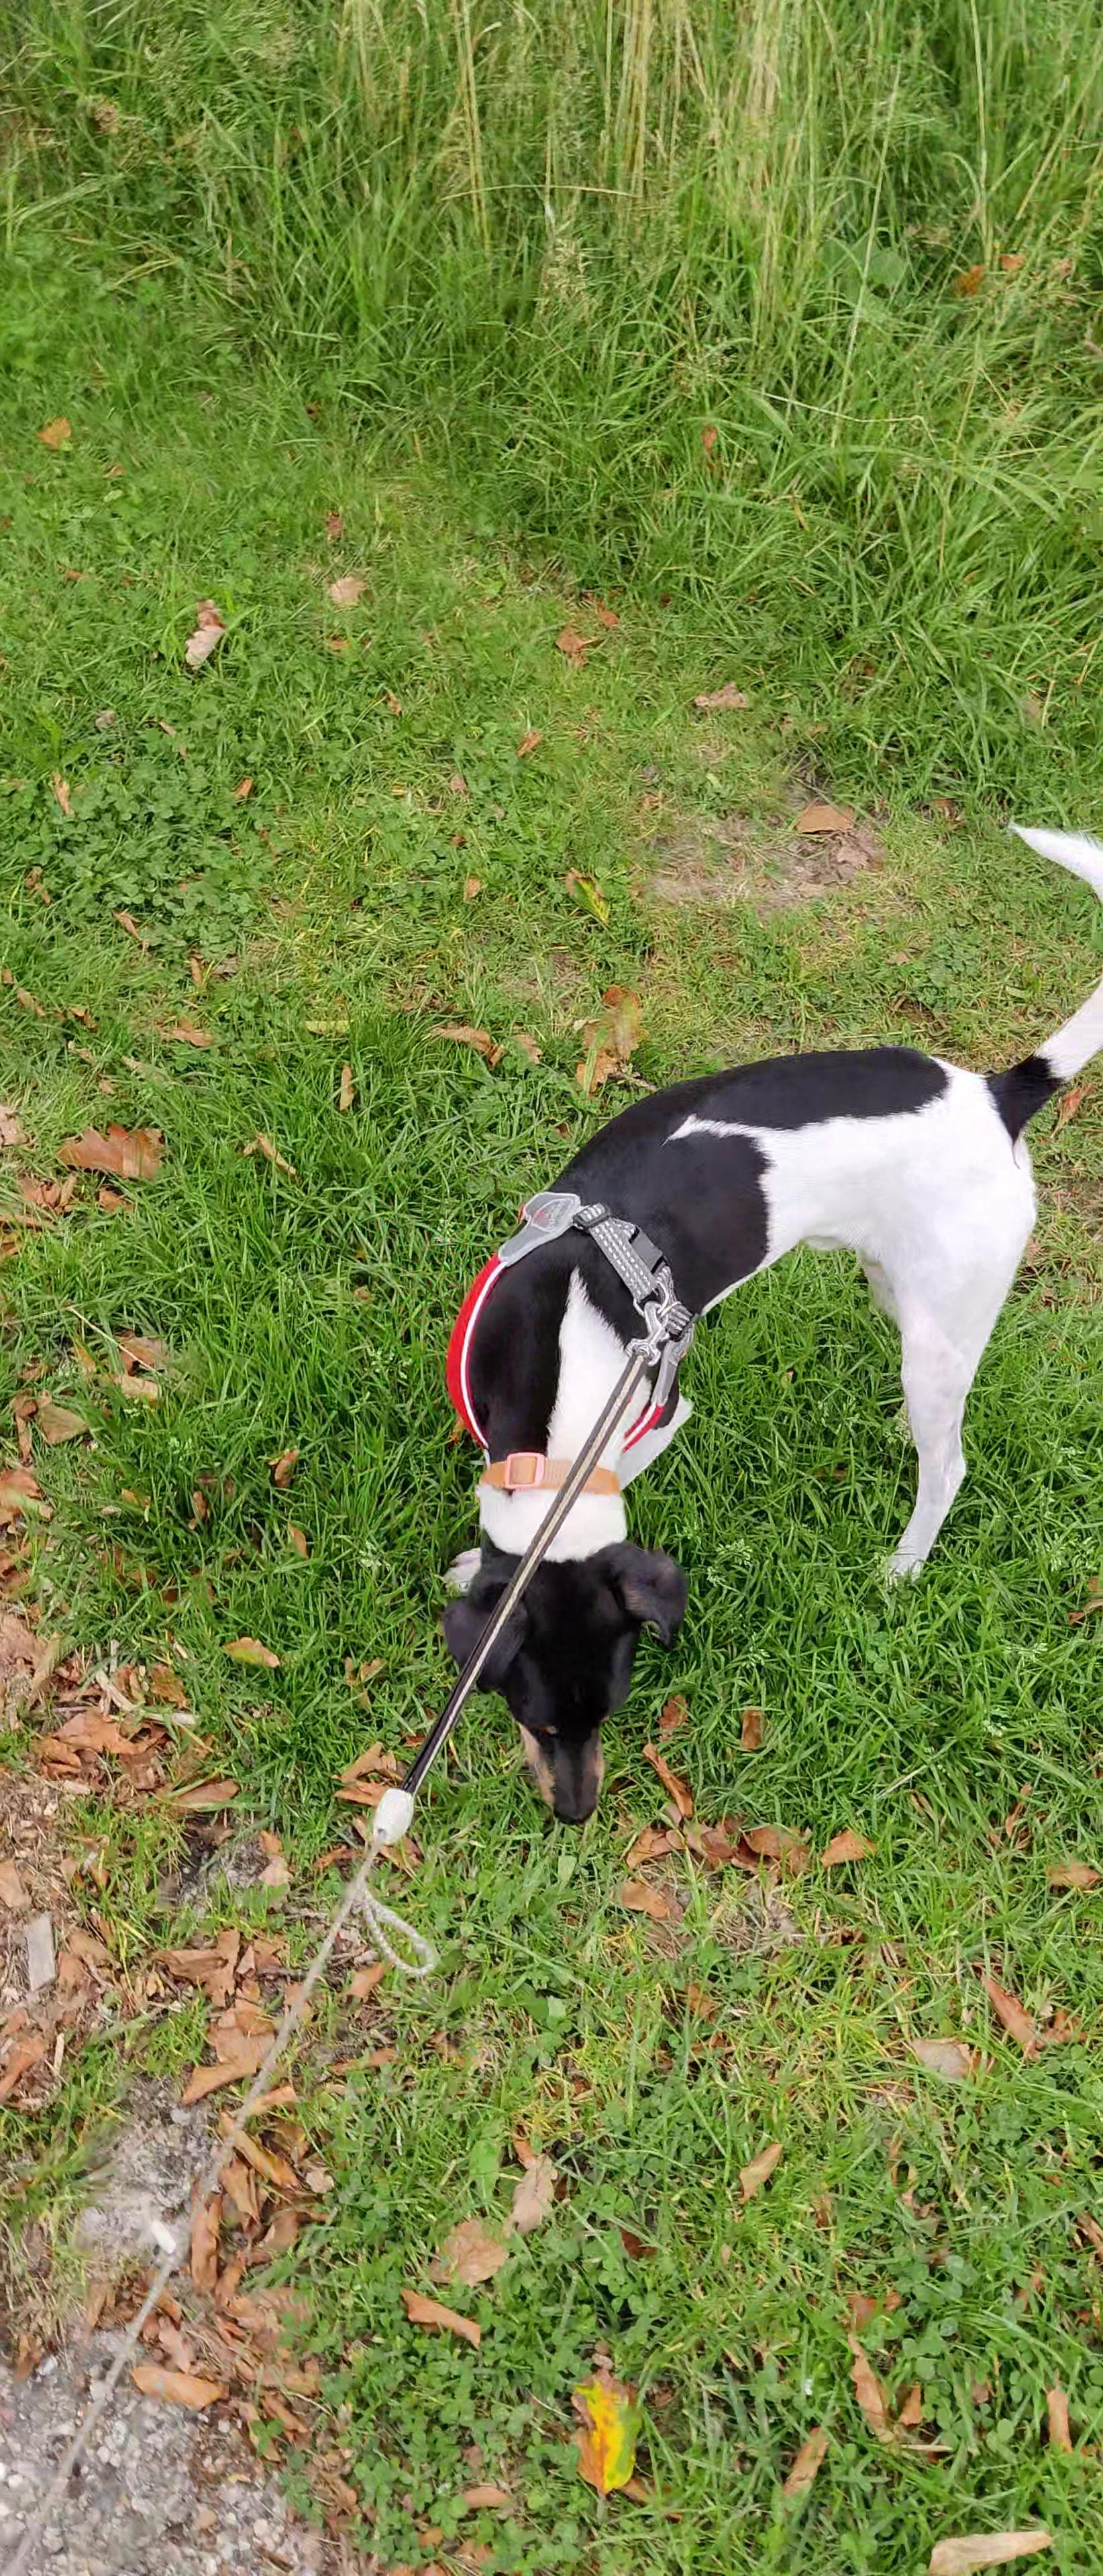Dog: (424, 803, 1103, 1842)
